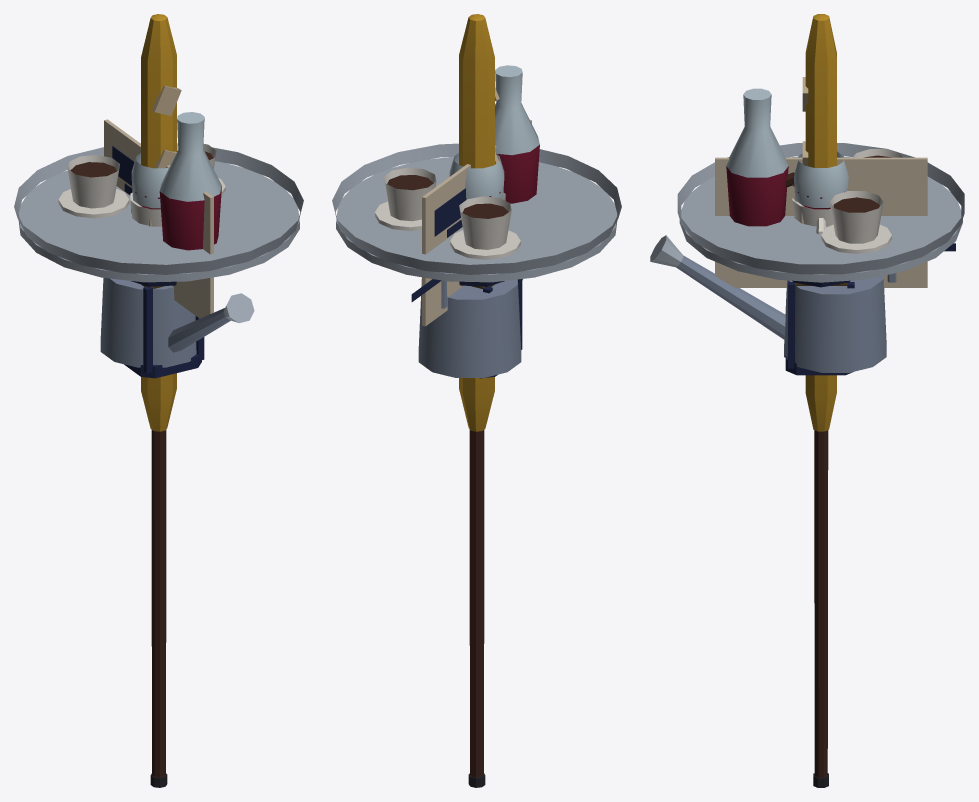
Rendered from props.glb.
The picture shows the model from 3 angles, left to right: view 1: azimuth 30°, elevation 25°; view 2: azimuth 150°, elevation 25°; view 3: azimuth 270°, elevation 25°; orthographic projection.
Parts seen in each view (by area): view 1: tray, watering_can, baguette, cane, newspaper, lantern, wine_glass, coffee_cup; view 2: tray, watering_can, baguette, cane, newspaper, wine_glass, lantern; view 3: tray, watering_can, newspaper, baguette, cane, wine_glass, lantern, coffee_cup.
Boxes of the visible parts, x1,y1,x2,y2 form: tray: (14,112,303,282); watering_can: (100,278,254,367); baguette: (131,14,181,431); cane: (150,430,167,787); newspaper: (104,119,213,318); lantern: (124,281,204,378); wine_glass: (131,153,168,209); coffee_cup: (130,192,161,226); tray: (332,65,621,282); watering_can: (418,279,522,377); baguette: (459,14,499,431); cane: (468,430,485,787); newspaper: (411,120,531,326); wine_glass: (449,153,504,199); lantern: (459,279,522,378); tray: (677,88,964,282); watering_can: (650,235,896,372); newspaper: (715,157,955,287); baguette: (801,14,836,431); cane: (785,172,828,787); wine_glass: (794,151,848,209); lantern: (785,280,854,375); coffee_cup: (792,198,833,234).
Size of the model in its own units: 0.405 by 1.2 by 0.4438.
